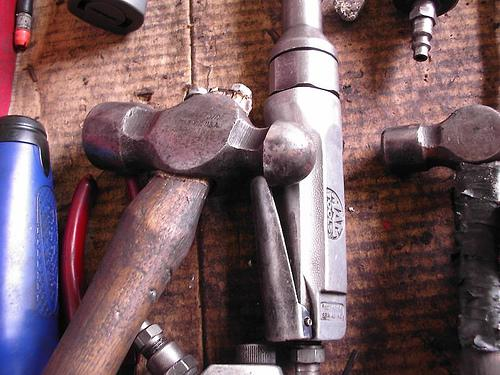hammer: (41, 91, 318, 374), (379, 102, 499, 374)
